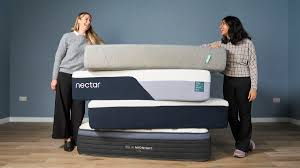bed-matress: (76, 120, 212, 163), (87, 97, 231, 132), (80, 40, 227, 73), (72, 69, 209, 102)
